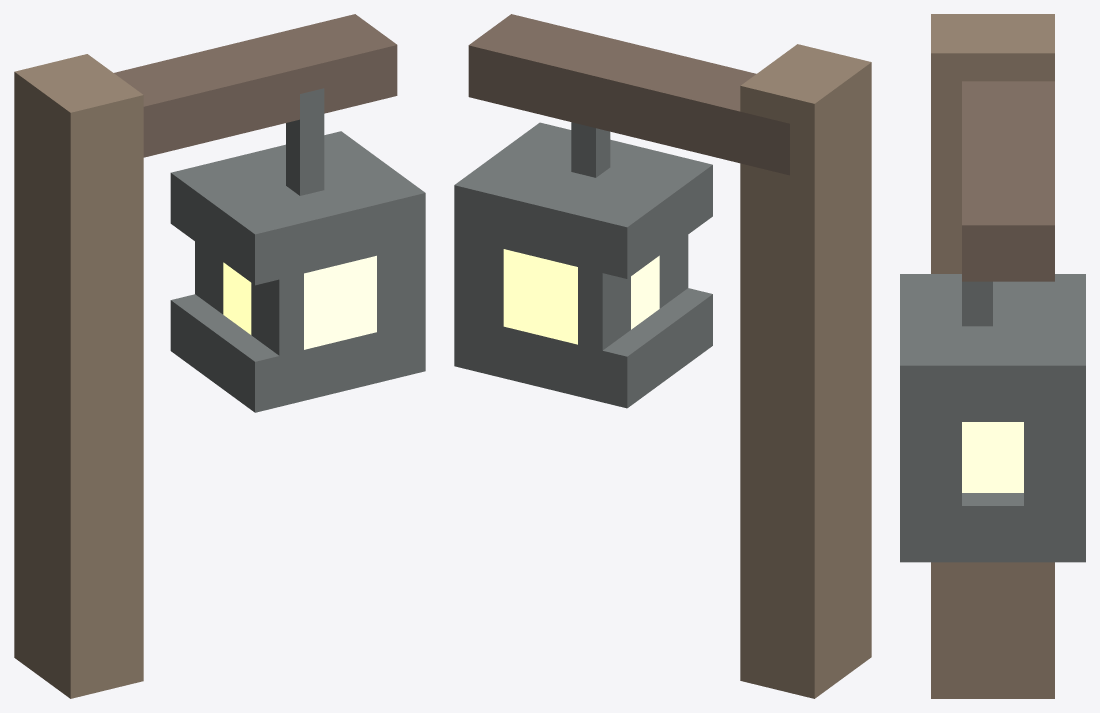
The model's file is swamp_lantern_post.glb.
3 renders of one model, left to right at view 1: azimuth 30°, elevation 25°; view 2: azimuth 150°, elevation 25°; view 3: azimuth 270°, elevation 25°, orthographic. The views are drawn at different scales.
Size of the model in its own units: 0.5833 by 0.9583 by 0.25.
